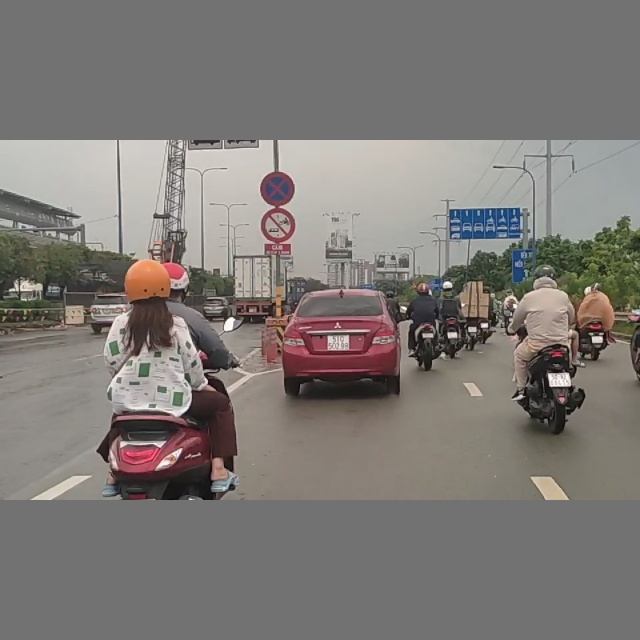P.111: (261, 208, 295, 242)
P.130: (261, 172, 294, 205)
